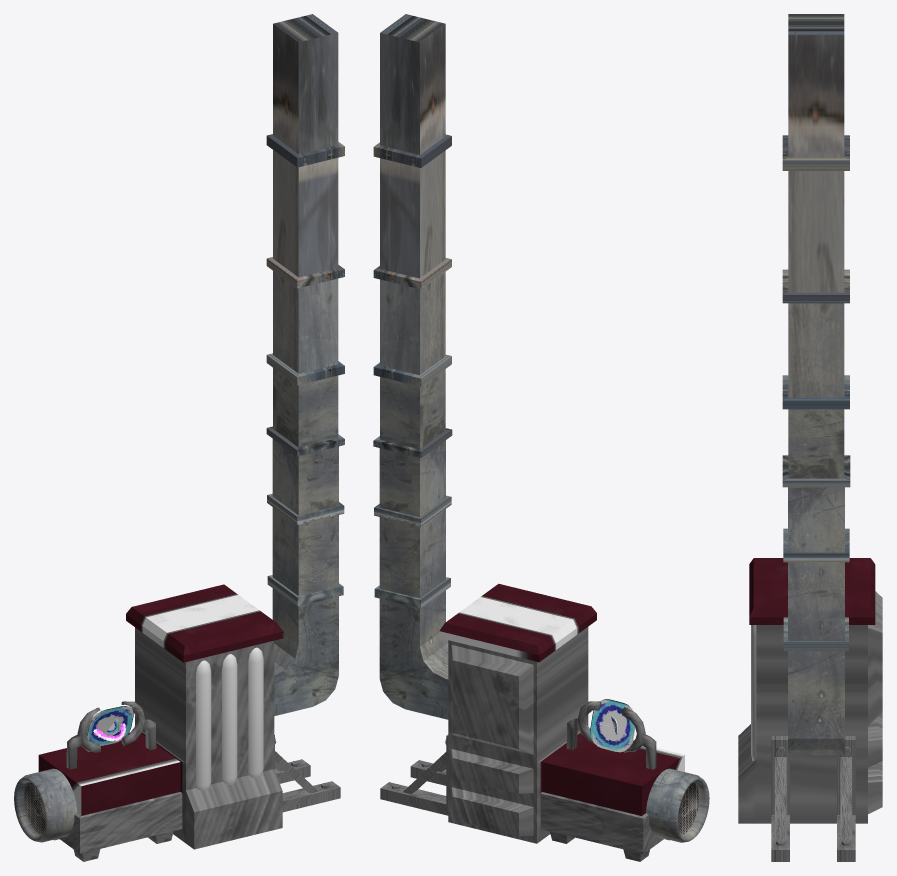
File: Scrap 8 raw.fbx
The picture shows the model from 3 angles, left to right: view 1: azimuth 30°, elevation 25°; view 2: azimuth 150°, elevation 25°; view 3: azimuth 270°, elevation 25°; orthographic projection. The views are drawn at different scales.
Visible parts, largest first — view 1: Cube; view 2: Cube; view 3: Cube.
Part boxes in pixels (left/top/right/bottom): Cube: left=14, top=14, right=344, bottom=861; Cube: left=373, top=14, right=709, bottom=861; Cube: left=738, top=14, right=882, bottom=861.
Size of the model in its own units: 1376 by 3310 by 521.
